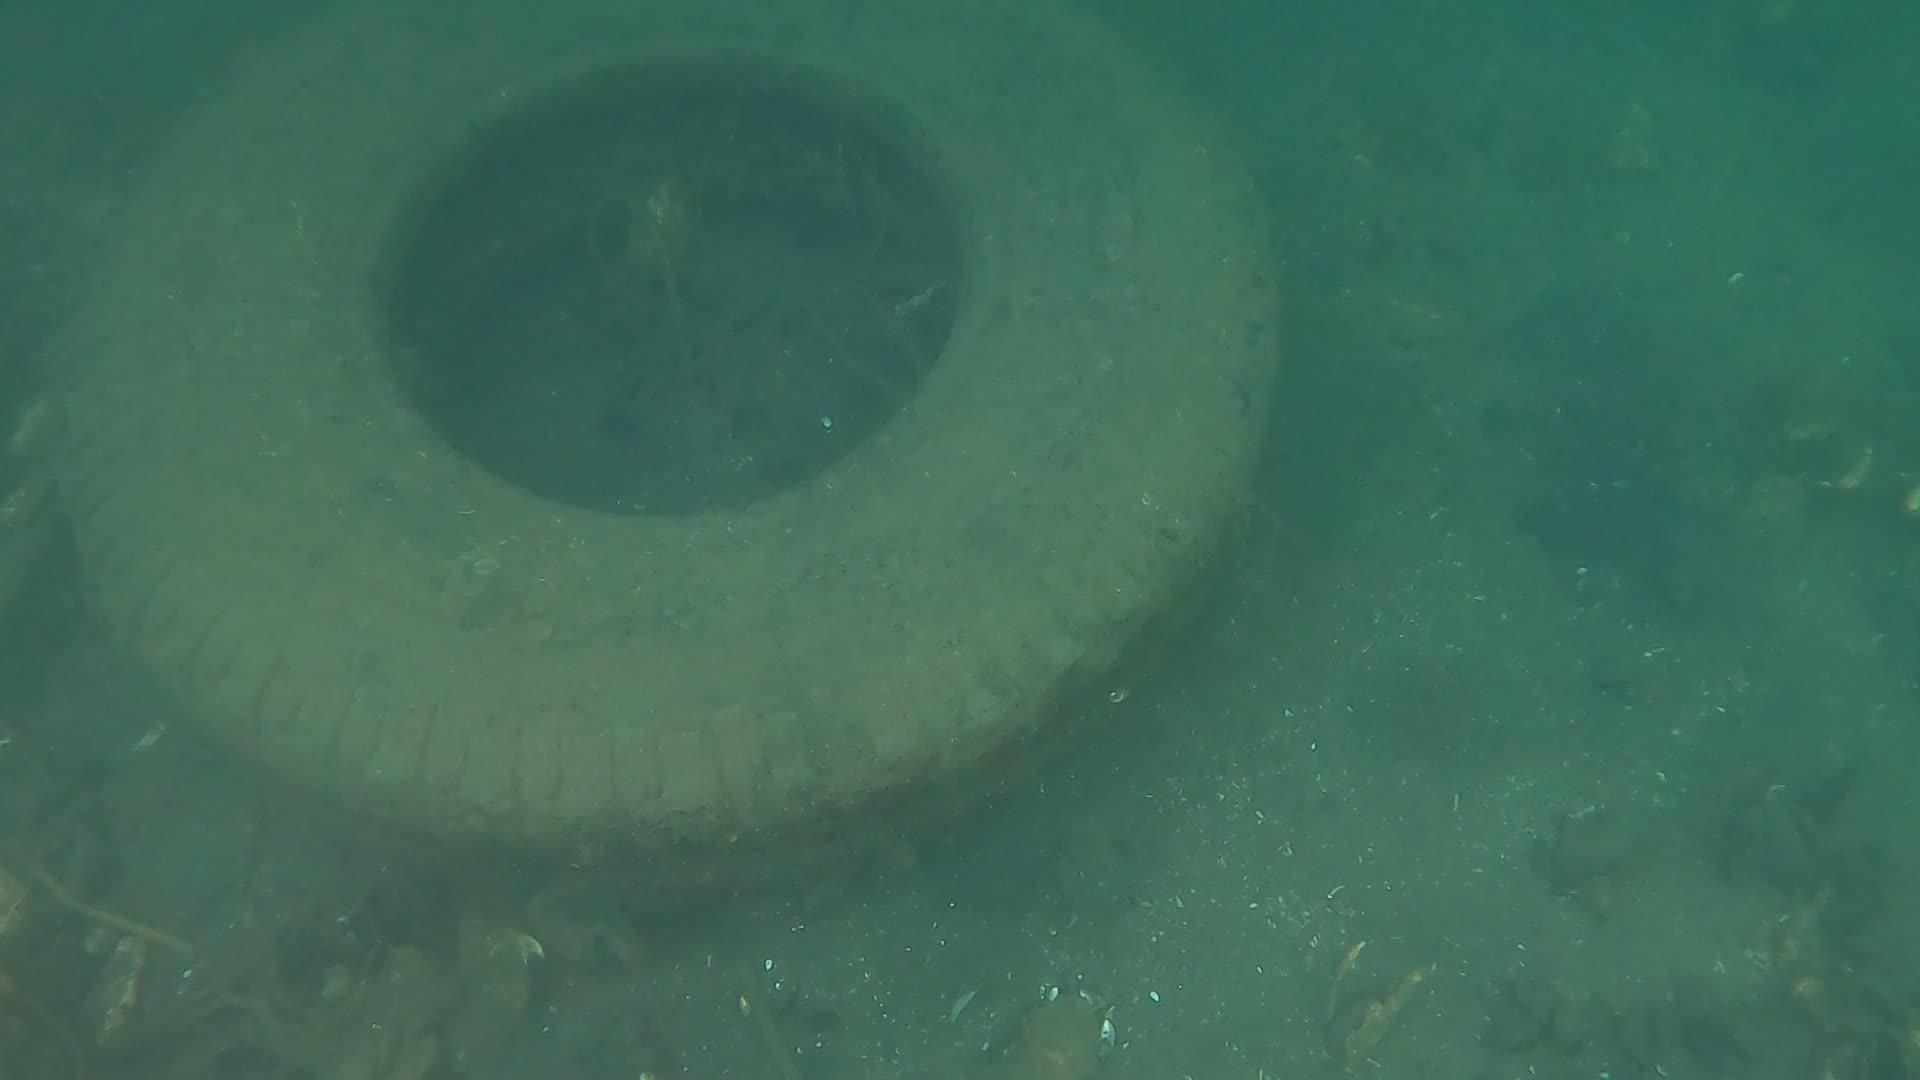tire: (42, 9, 1278, 866)
